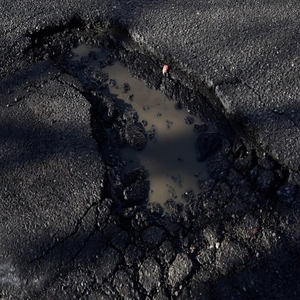pothole: (54, 27, 275, 245)
